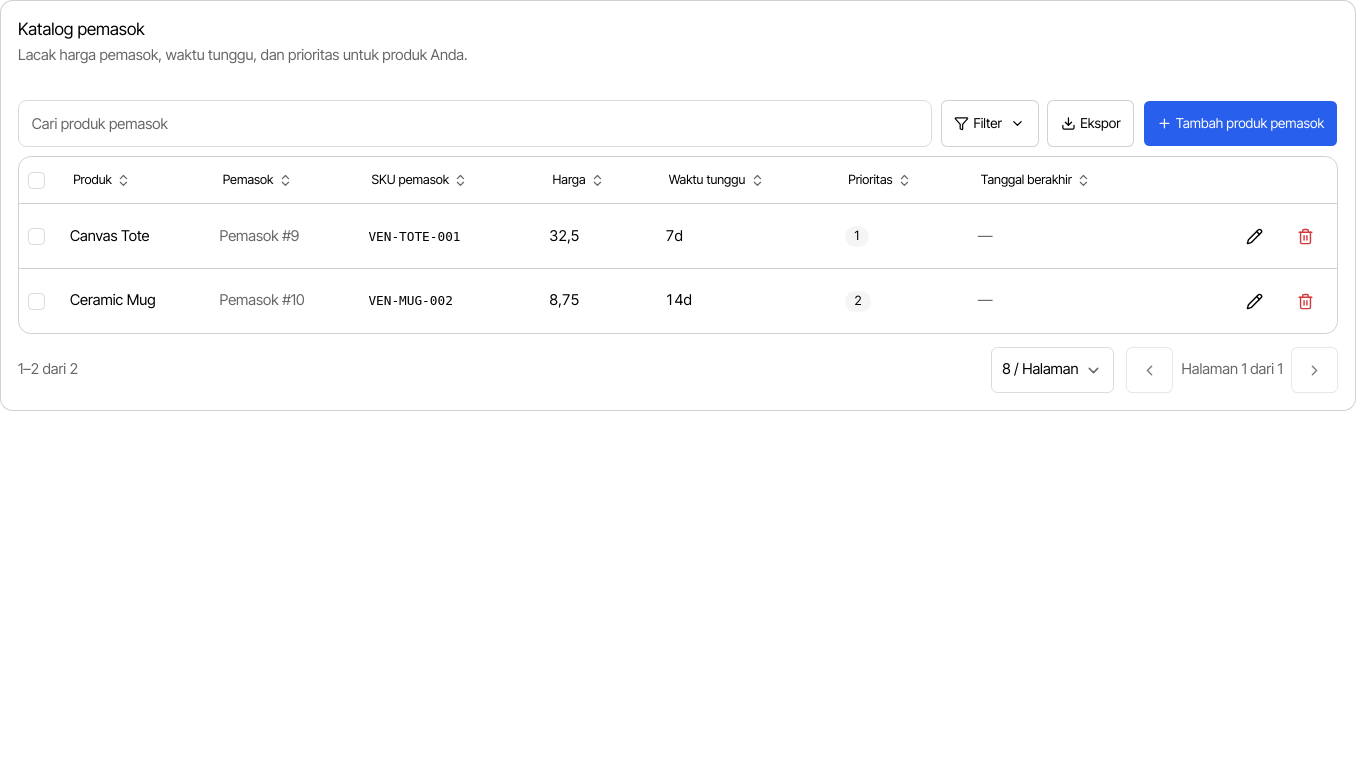
SupplierCatalogSection › opens the create dialog from the add button
Expected: the text "VEN-TOTE-001" is shown, [368,229,460,244]
Step 1. Click the button "Tambah produk pemasok" → click(1240, 124), box [1143,100,1338,147]
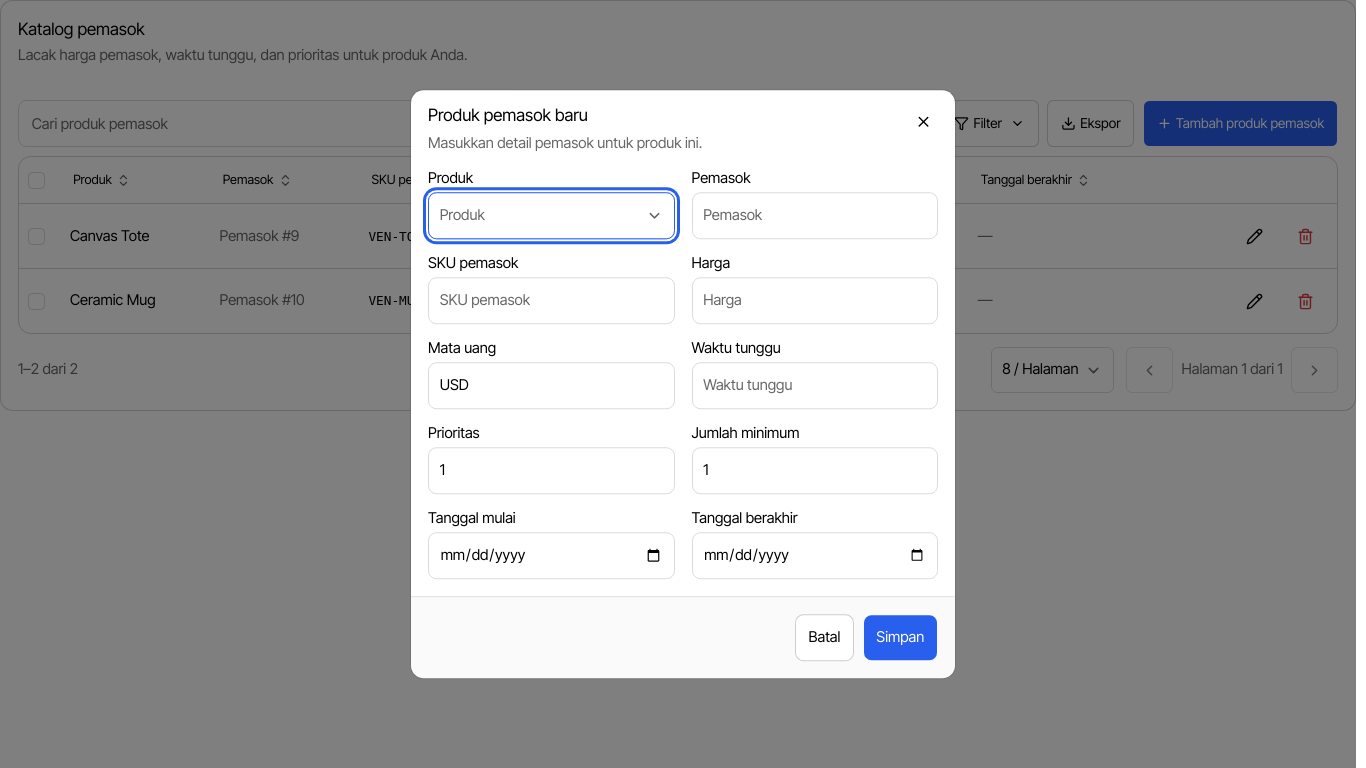
Result: the dialog is shown at [411,90,955,678]
Result: the heading "Produk pemasok baru" is shown at [428,105,588,125]
